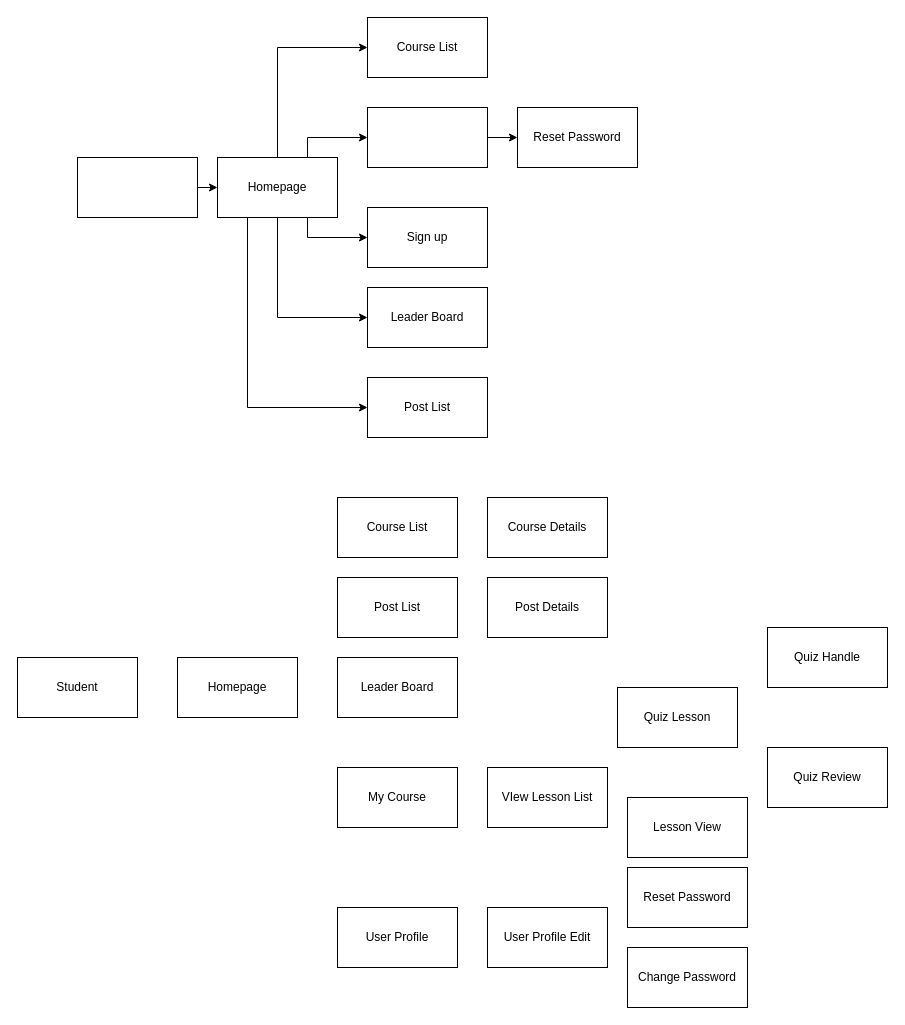
This 905x1025 diagram has some shape labels left out. Here are the shapes that lost their labels. From the top down, the box of each, then its label:
(366, 106, 488, 168): Login
(76, 156, 198, 218): Guest
